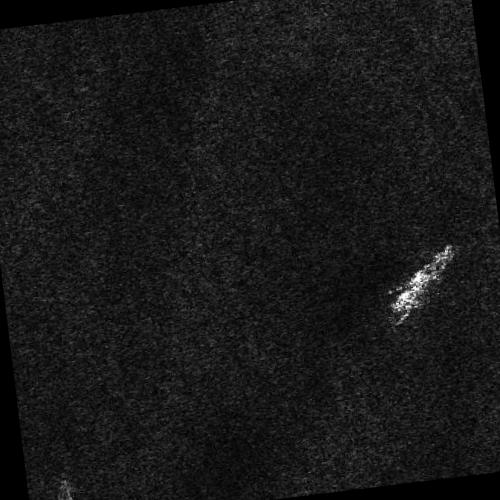ship: (390, 242, 455, 313)
